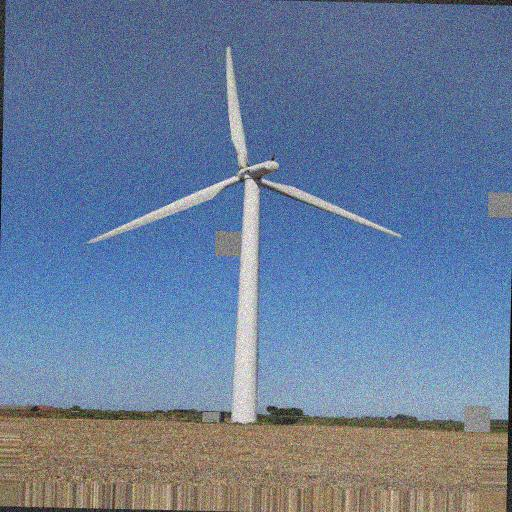wind turbine: (85, 44, 405, 426)
